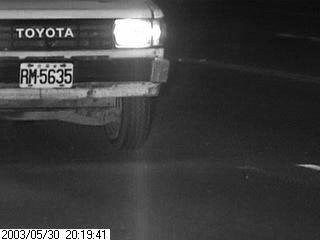plate: (18, 61, 75, 91)
